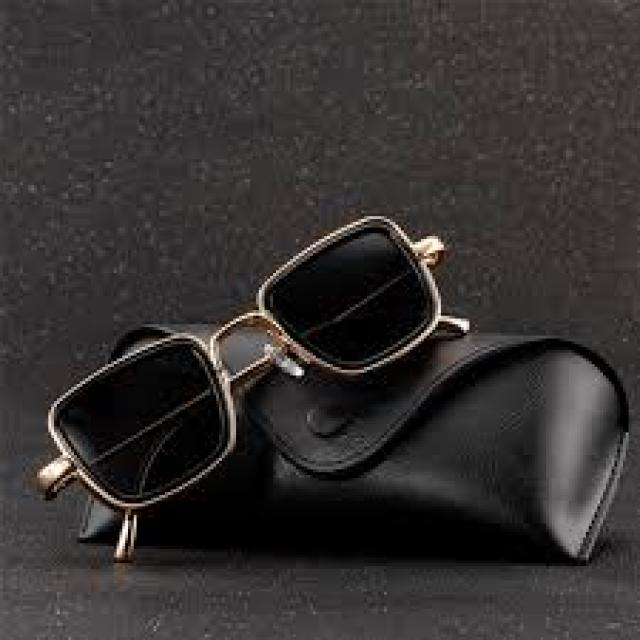suspicious-objects: (40, 214, 475, 506)
